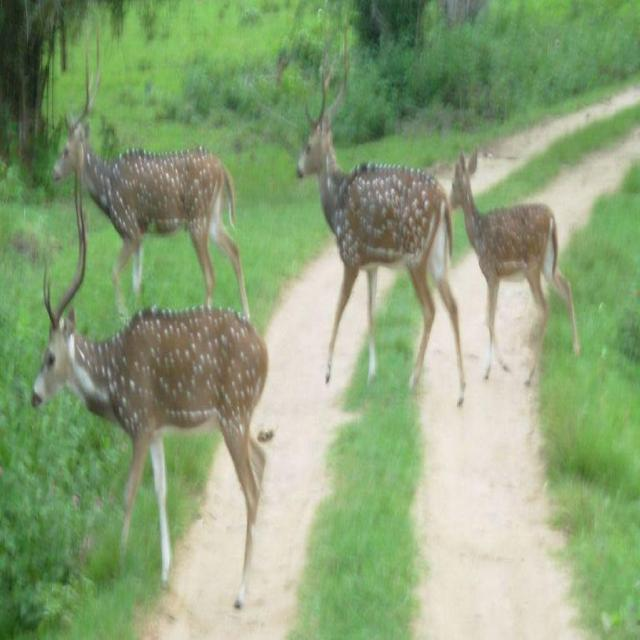Deer: (31, 303, 271, 615), (300, 95, 444, 412), (52, 109, 248, 288), (447, 146, 581, 386)
